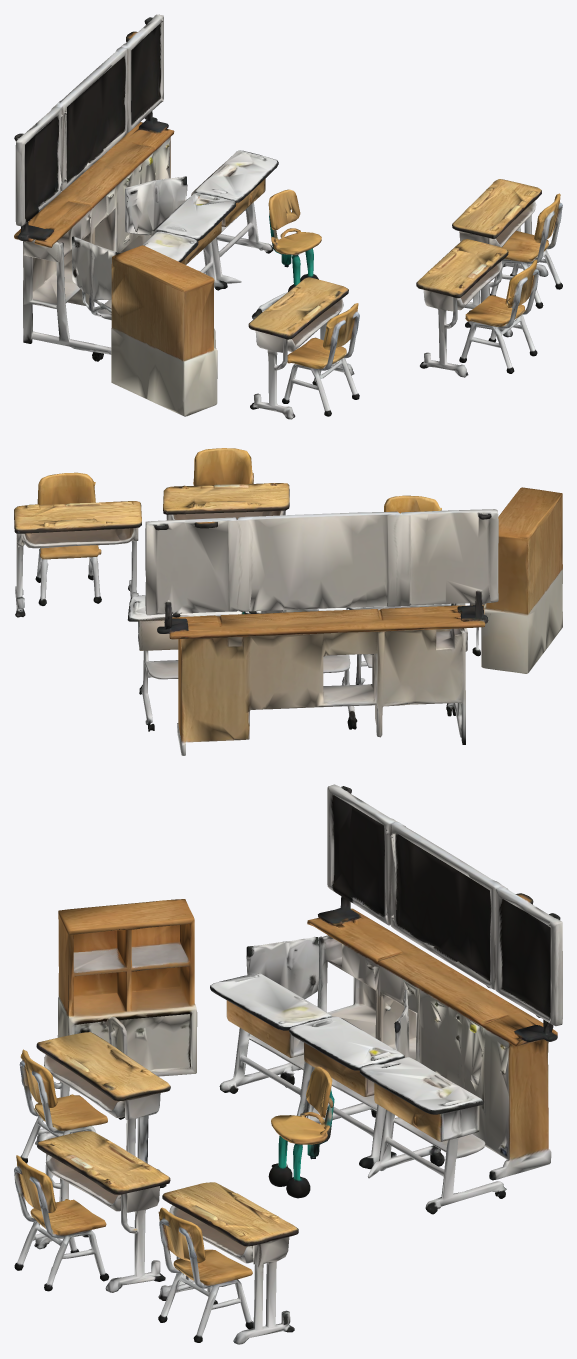
File: tripo_h31_korean_classroom_furniture_kit.glb
3 renders of one model, top to bottom at view 1: azimuth 30°, elevation 25°; view 2: azimuth 150°, elevation 25°; view 3: azimuth 270°, elevation 25°, orthographic. The views are drawn at different scales.
Visible parts, largest first — view 1: tripo_node_fe9983f2-b254-4831-8291-21774479d488; view 2: tripo_node_fe9983f2-b254-4831-8291-21774479d488; view 3: tripo_node_fe9983f2-b254-4831-8291-21774479d488.
Boxes of the visible parts, x1,y1,x2,y2 form: tripo_node_fe9983f2-b254-4831-8291-21774479d488: (14,14,562,419); tripo_node_fe9983f2-b254-4831-8291-21774479d488: (14,448,562,755); tripo_node_fe9983f2-b254-4831-8291-21774479d488: (14,784,562,1344).
Size of the model in its own units: 0.978 by 0.4312 by 0.7815.
Materials: 1 (1 with a texture image).
